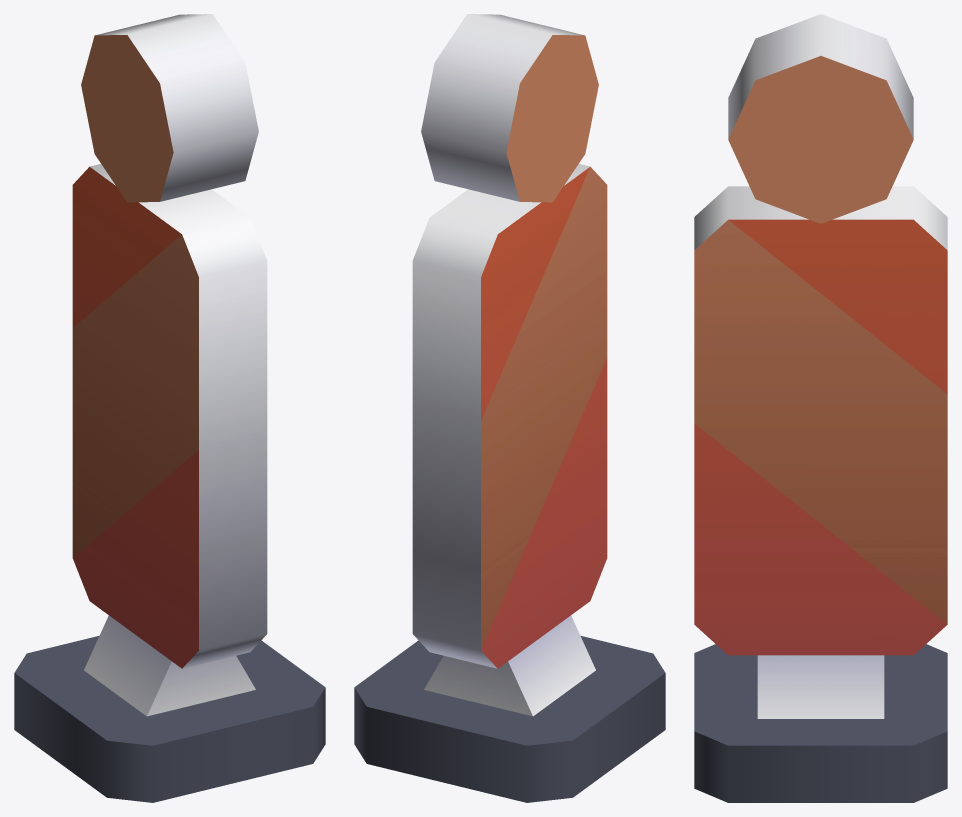
Rendered from construction-light.draco.glb.
3 views of the same model, side by side, from view 1: azimuth 30°, elevation 25°; view 2: azimuth 150°, elevation 25°; view 3: azimuth 270°, elevation 25° (orthographic).
Visible parts, largest first — view 1: construction-light; view 2: construction-light; view 3: construction-light.
Part boxes in pixels (x1,y1,x2,y2): construction-light: (14,14,325,802); construction-light: (354,14,665,802); construction-light: (694,14,947,802).
Bounding box in the file's own units: 0.075 × 0.2337 × 0.075.
1 material, 1 textured.
